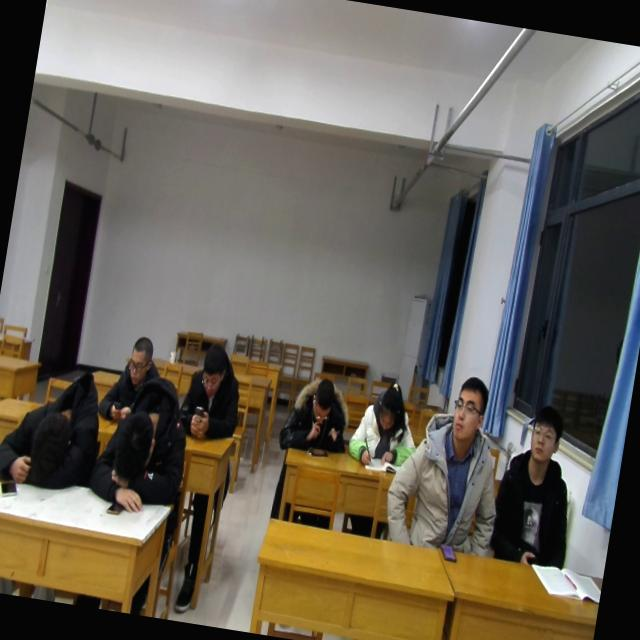bow: (83, 378, 197, 525), (0, 362, 107, 494)
down: (194, 339, 233, 403), (122, 331, 158, 389), (372, 378, 408, 436), (306, 372, 338, 428)
lookup: (445, 370, 496, 449), (523, 398, 568, 467)
sit: (380, 367, 514, 554), (491, 403, 586, 568), (96, 328, 174, 437), (177, 338, 252, 448), (276, 370, 359, 456), (347, 384, 422, 469)
